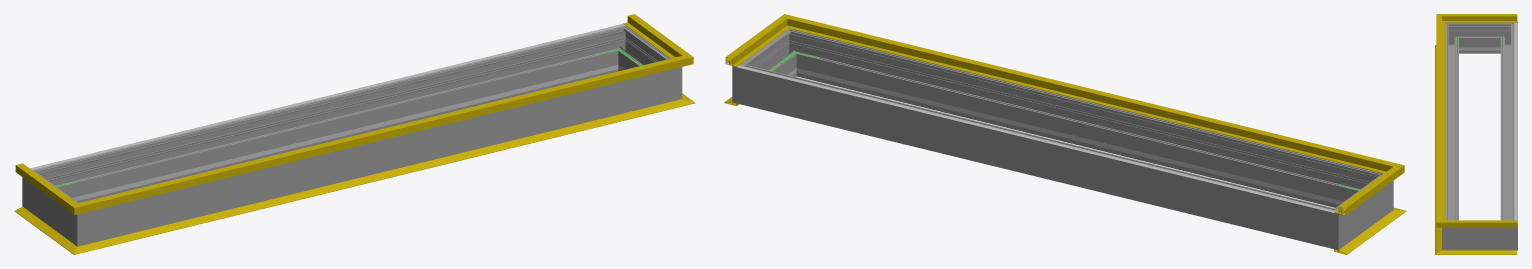
The picture shows the model from 3 angles, left to right: view 1: azimuth 30°, elevation 25°; view 2: azimuth 150°, elevation 25°; view 3: azimuth 270°, elevation 25°; orthographic projection. The views are drawn at different scales.
Visible parts, largest first — view 1: 3DGeom-276, 3DGeom-298, 3DGeom-123, 3DGeom-28, 3DGeom-244, 3DGeom-220, 3DGeom-270, 3DGeom-290, 3DGeom-284, 3DGeom-128, 3DGeom-268, 3DGeom-297 (+5 smaller); view 2: 3DGeom-298, 3DGeom-276, 3DGeom-123, 3DGeom-239, 3DGeom-220, 3DGeom-278, 3DGeom-284, 3DGeom-290, 3DGeom-128, 3DGeom-297, 3DGeom-268, 3DGeom-118 (+4 smaller); view 3: 3DGeom-276, 3DGeom-298, 3DGeom-123, 3DGeom-268, 3DGeom-297, 3DGeom-220, 3DGeom-118, 3DGeom-284, 3DGeom-290, 3DGeom-128, 3DGeom-28, 3DGeom-270 (+7 smaller).
Part boxes in pixels (box(x1,y1,x2,y2)): 3DGeom-276: box(51, 31, 613, 202); 3DGeom-298: box(103, 73, 656, 240); 3DGeom-123: box(96, 60, 667, 208); 3DGeom-28: box(95, 103, 669, 248); 3DGeom-244: box(81, 71, 593, 199); 3DGeom-220: box(30, 24, 625, 170); 3DGeom-270: box(62, 197, 103, 246); 3DGeom-290: box(656, 53, 682, 104); 3DGeom-284: box(604, 25, 637, 72); 3DGeom-128: box(623, 14, 677, 55); 3DGeom-268: box(37, 179, 70, 235); 3DGeom-297: box(620, 34, 663, 69); 3DGeom-298: box(801, 34, 1364, 207); 3DGeom-276: box(758, 69, 1317, 243); 3DGeom-123: box(804, 20, 1378, 170); 3DGeom-239: box(821, 74, 1334, 203); 3DGeom-220: box(736, 65, 1335, 212); 3DGeom-278: box(1312, 201, 1353, 250); 3DGeom-284: box(732, 56, 762, 108); 3DGeom-290: box(776, 28, 810, 77); 3DGeom-128: box(725, 25, 780, 66); 3DGeom-297: box(751, 38, 793, 76); 3DGeom-268: box(1345, 182, 1378, 238); 3DGeom-118: box(1334, 174, 1389, 215); 3DGeom-276: box(1500, 30, 1517, 220); 3DGeom-298: box(1445, 30, 1458, 220); 3DGeom-123: box(1436, 22, 1445, 218); 3DGeom-268: box(1462, 22, 1497, 53); 3DGeom-297: box(1462, 227, 1497, 250); 3DGeom-220: box(1514, 22, 1517, 223); 3DGeom-118: box(1457, 14, 1517, 22); 3DGeom-284: box(1497, 216, 1517, 250); 3DGeom-290: box(1442, 216, 1462, 250); 3DGeom-128: box(1457, 220, 1517, 227); 3DGeom-28: box(1435, 53, 1441, 245); 3DGeom-270: box(1445, 22, 1462, 53).
Bounding box in the file's own units: 3.66 × 0.2596 × 0.6096.
